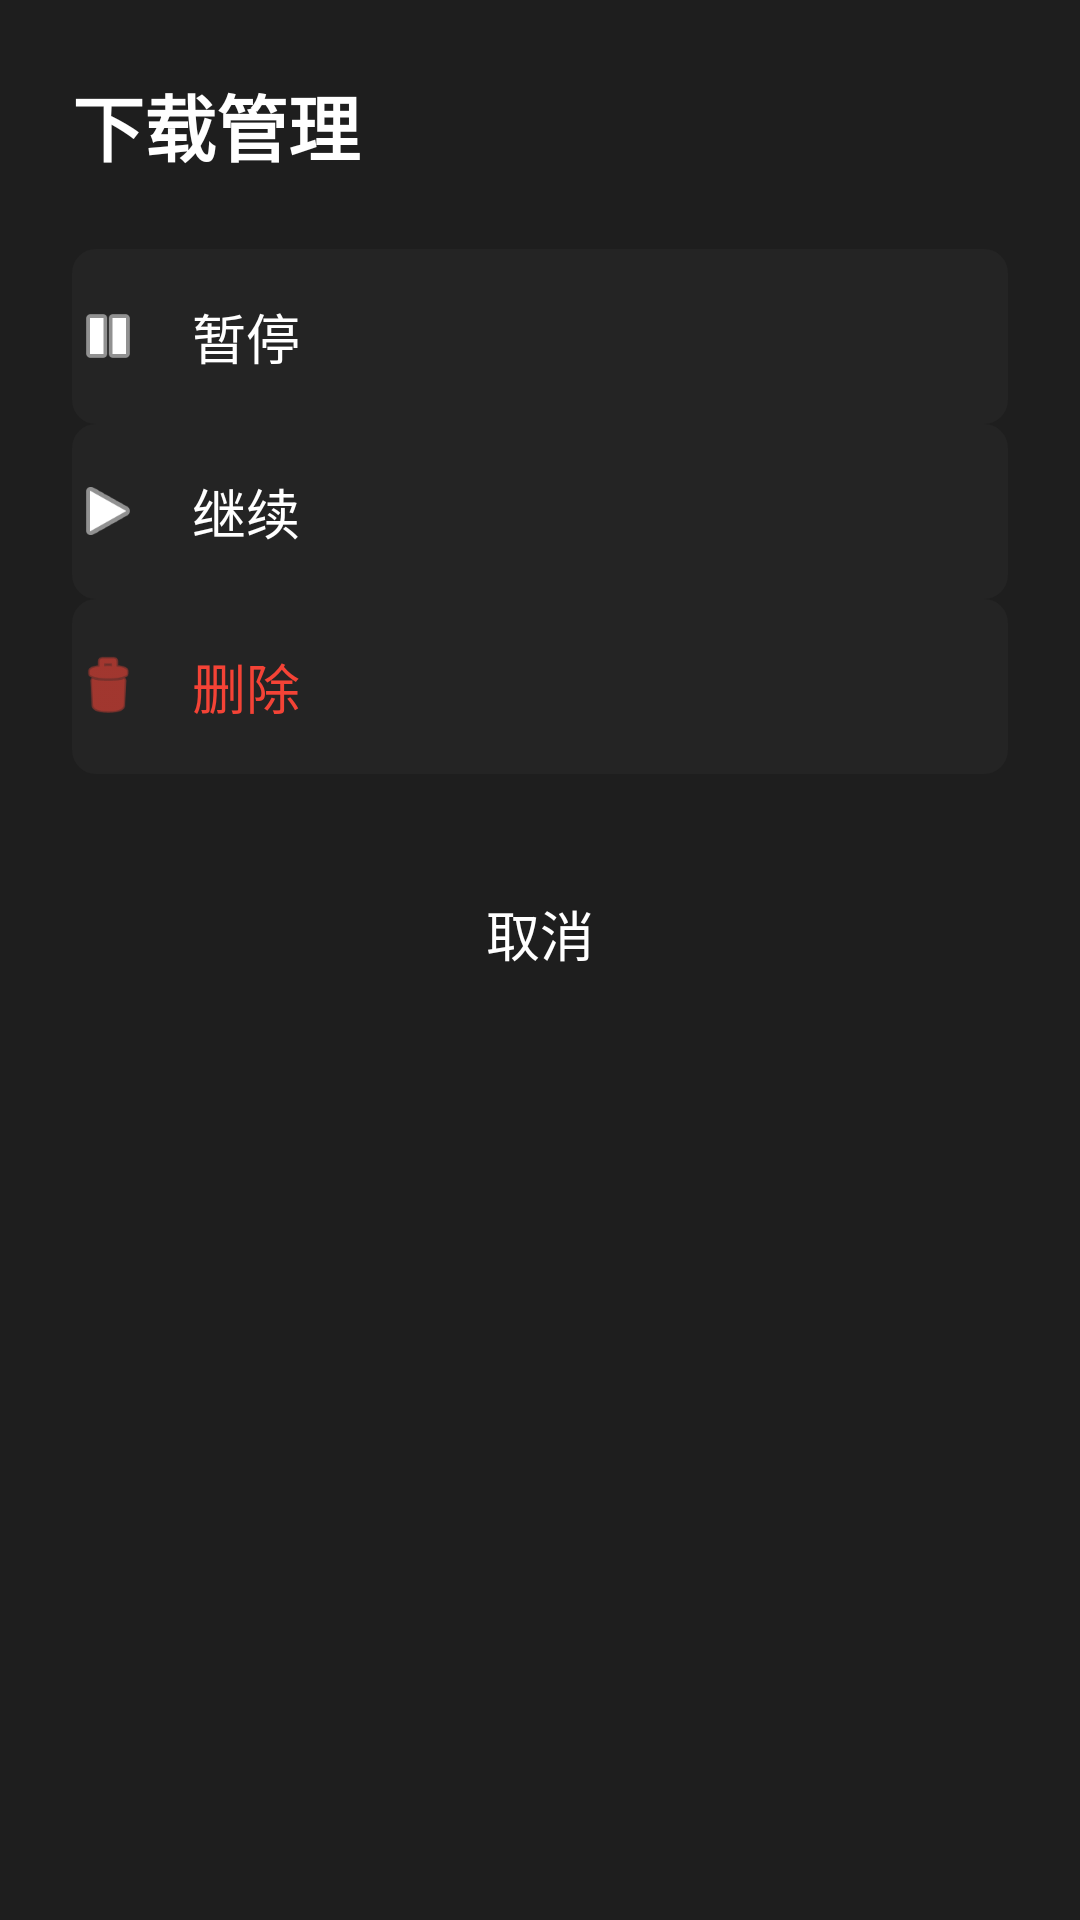

Where icons sit on this 1080px x 1920px app screen, as (x1, y1, x2, y2):
delete: (88, 657, 129, 713)
pause: (86, 314, 130, 358)
play: (86, 487, 130, 535)
